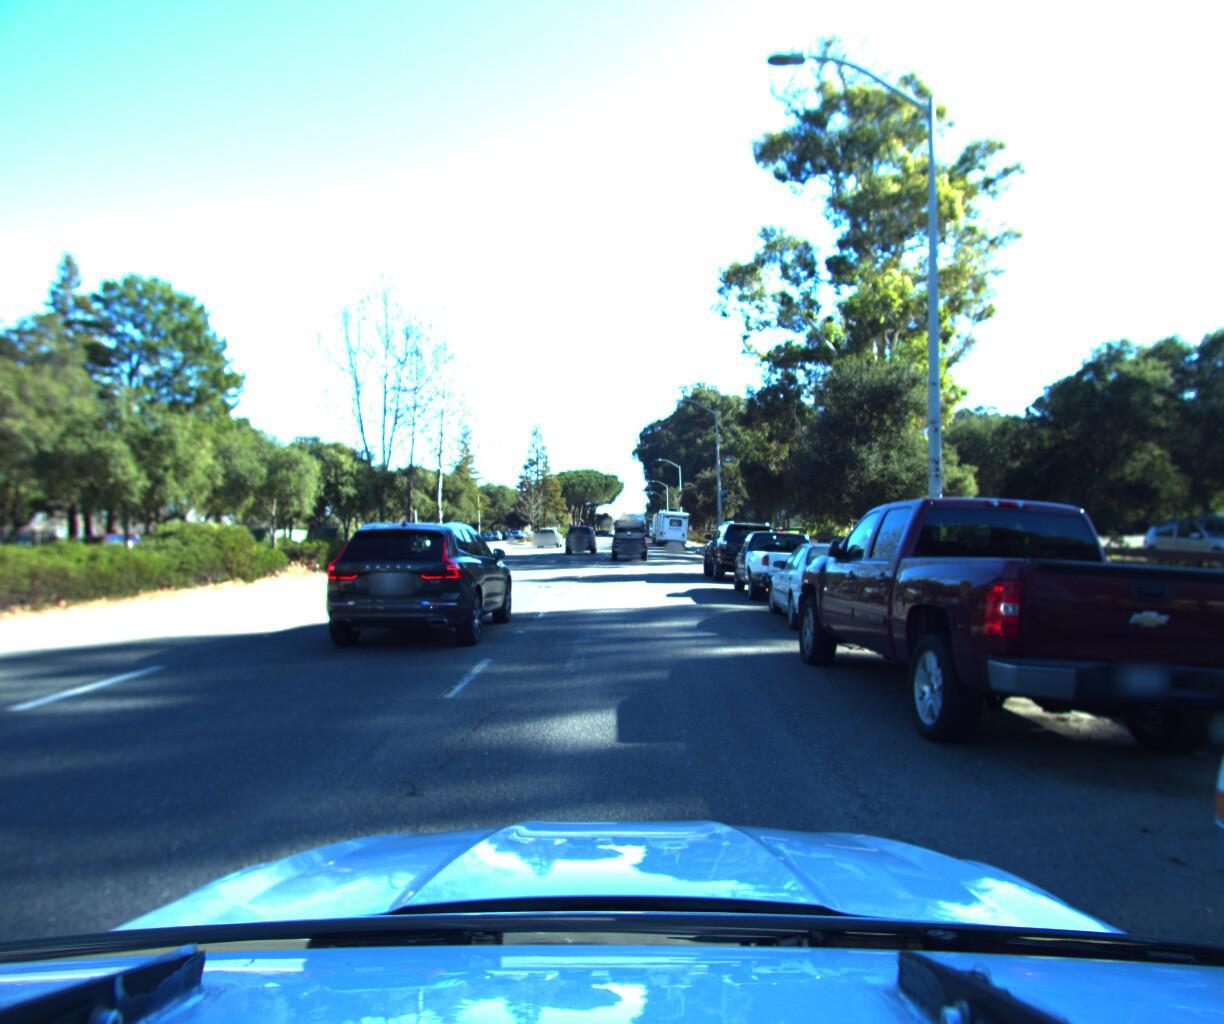car: (775, 455, 1224, 783), (317, 514, 515, 654), (759, 533, 909, 633), (727, 522, 830, 599), (698, 513, 781, 579), (604, 510, 651, 557), (560, 518, 596, 550), (537, 526, 563, 547)
other_vehicle: (653, 504, 690, 543), (648, 506, 679, 539)
